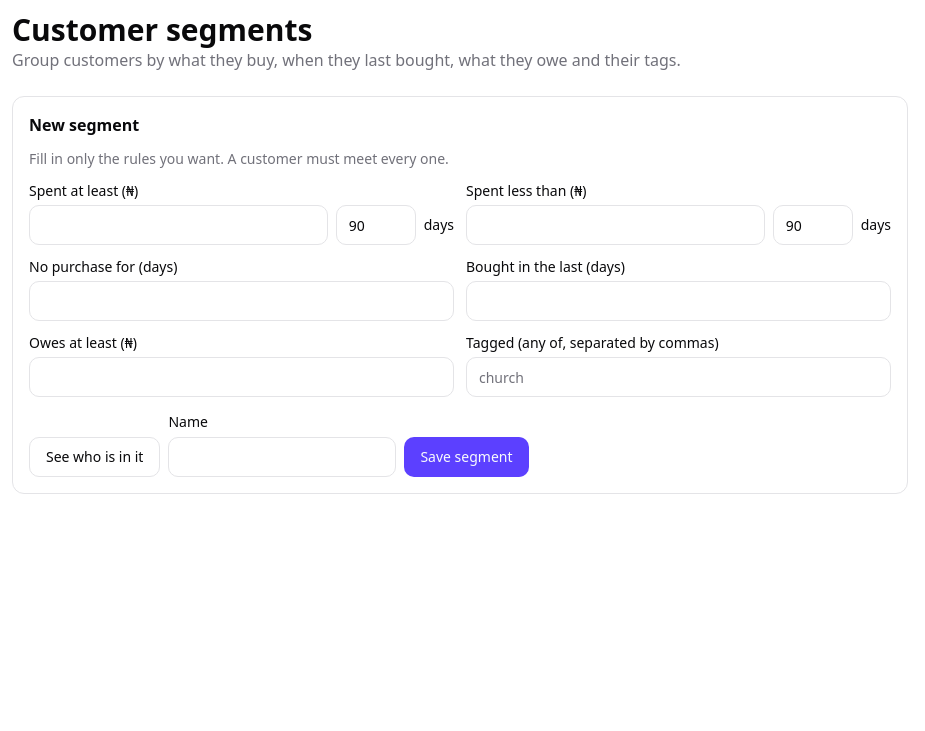
Test: the owner sees who a segment picks out, saves it, and tags a customer
Type "50000" into the field labelled "Owes at least" at point(242, 377), box x1=29 y1=357 x2=454 y2=397
Click the button "See who is in it" at point(95, 457), box x1=29 y1=437 x2=160 y2=477
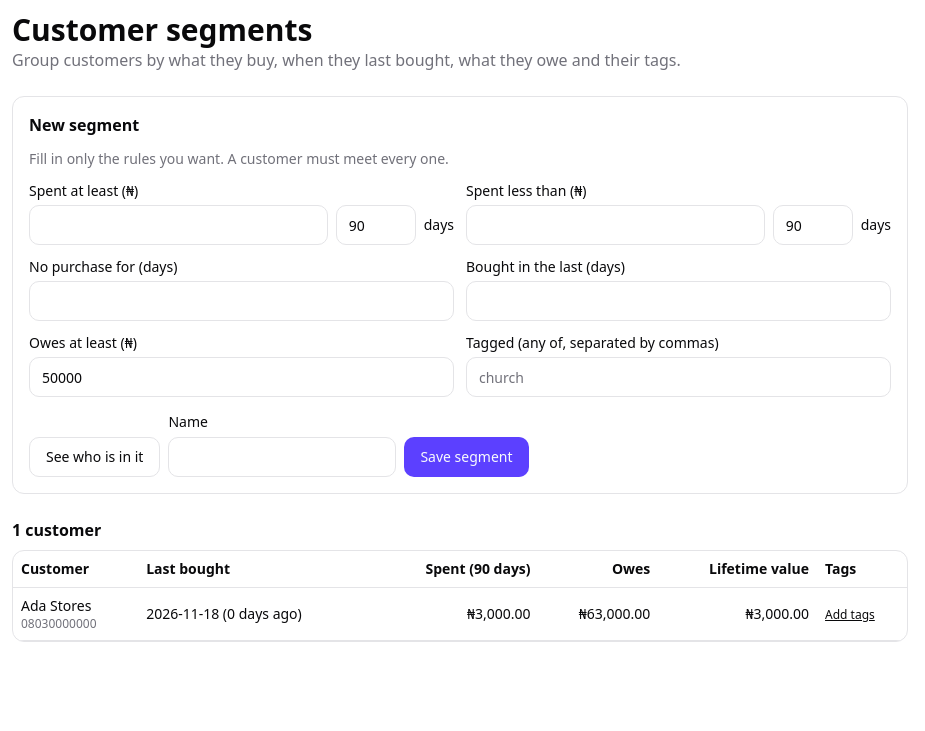
Now the text "Ada Stores" is shown, box x1=21 y1=596 x2=91 y2=615
Now the text "₦63,000.00" is shown, box x1=539 y1=588 x2=658 y2=640
Click the button "Save segment" at point(466, 457), box x1=404 y1=437 x2=528 y2=477
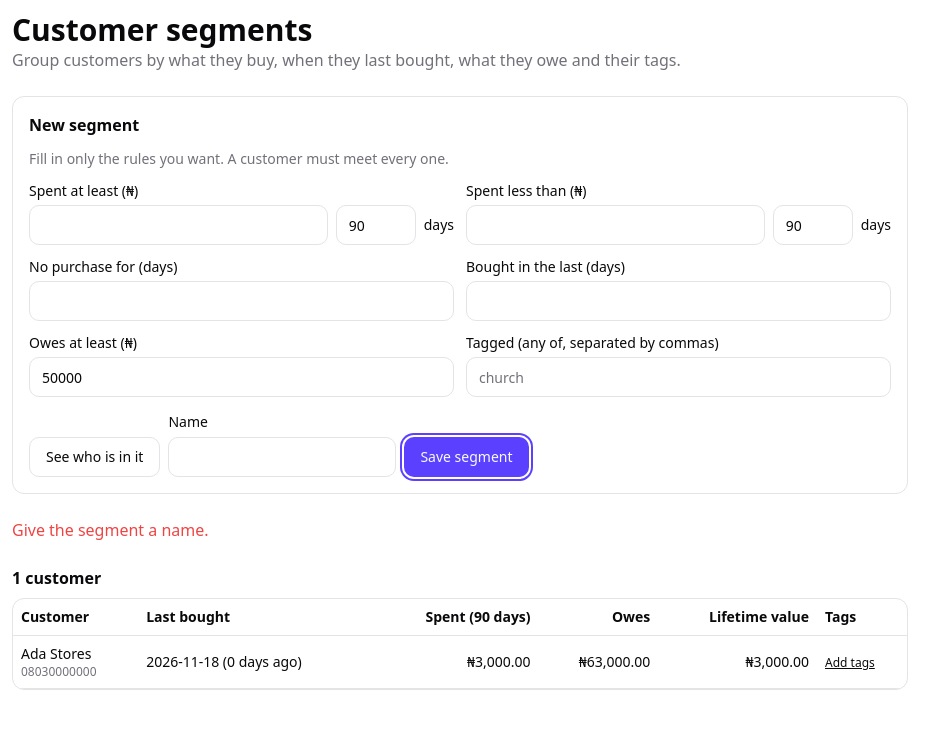
Now the message reads "Give the segment a name.", box x1=12 y1=519 x2=208 y2=541
Type "Owing a lot" into the field labelled "Name" at point(282, 457), box x1=168 y1=437 x2=396 y2=477
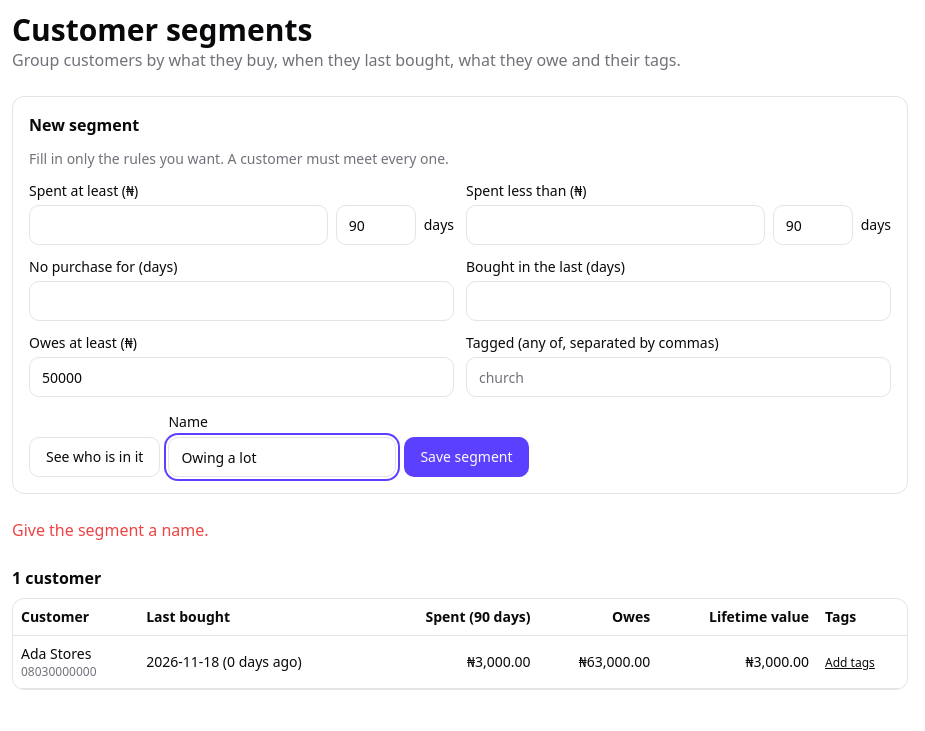
Click the button "Save segment" at point(466, 457), box x1=404 y1=437 x2=528 y2=477
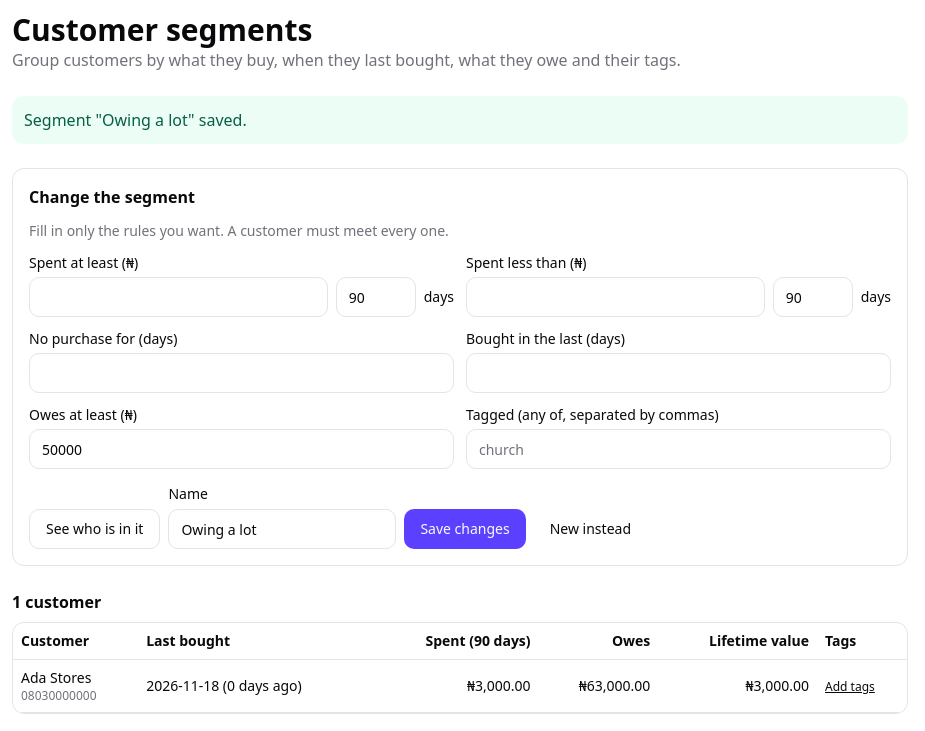
Click the button "Add tags" at point(850, 687), box x1=825 y1=679 x2=875 y2=695
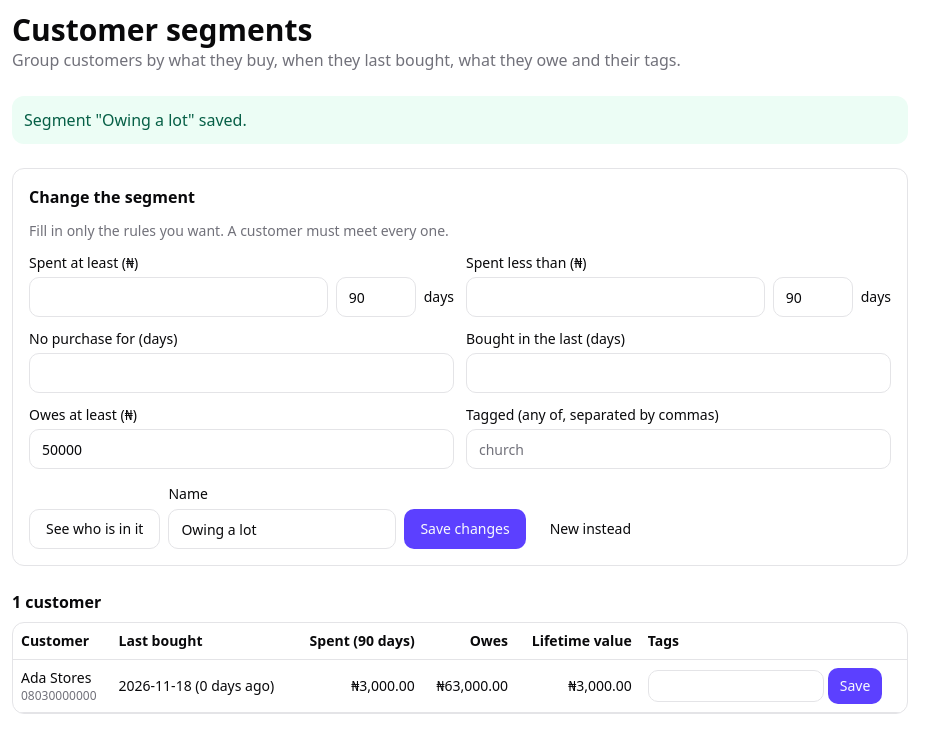
Type "Church" into the field named "Tags for Ada Stores" at point(736, 686), box x1=648 y1=670 x2=824 y2=702
Click the button "Save" at point(855, 686), box x1=828 y1=668 x2=882 y2=704
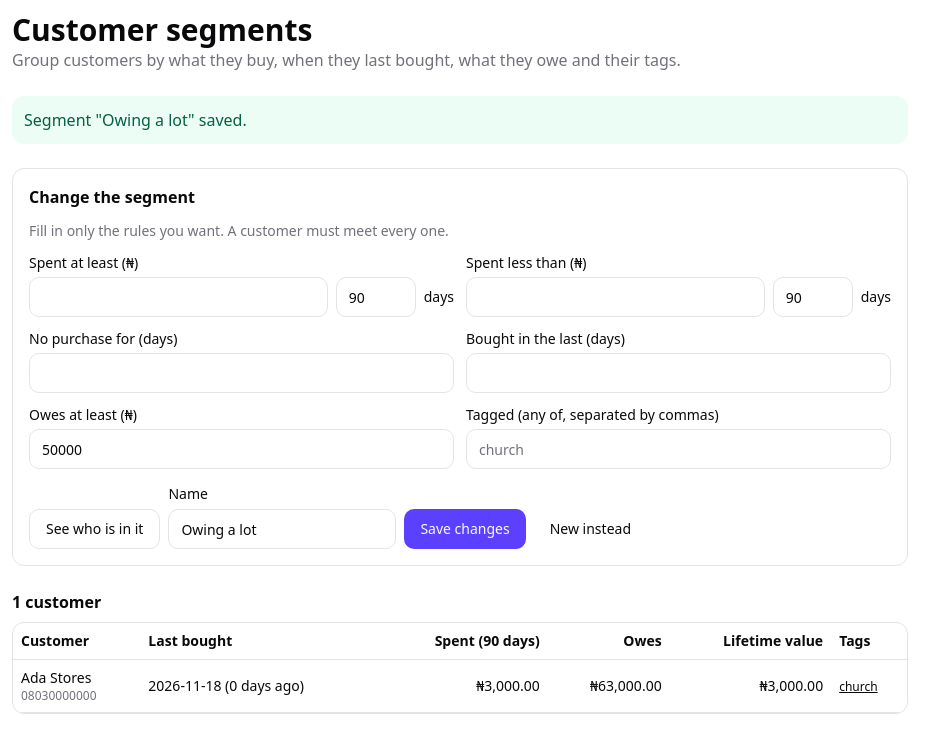
Now the button "church" is shown, box x1=839 y1=679 x2=878 y2=695
